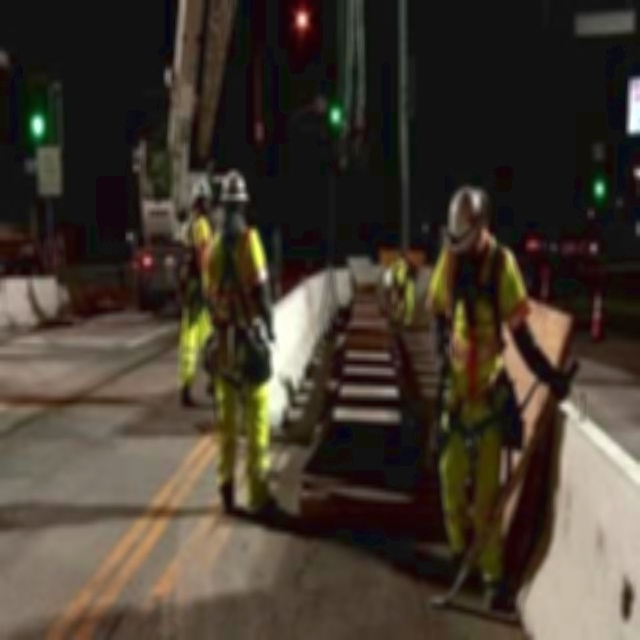Con_Chaleco: (440, 244, 511, 392), (203, 223, 265, 332)
